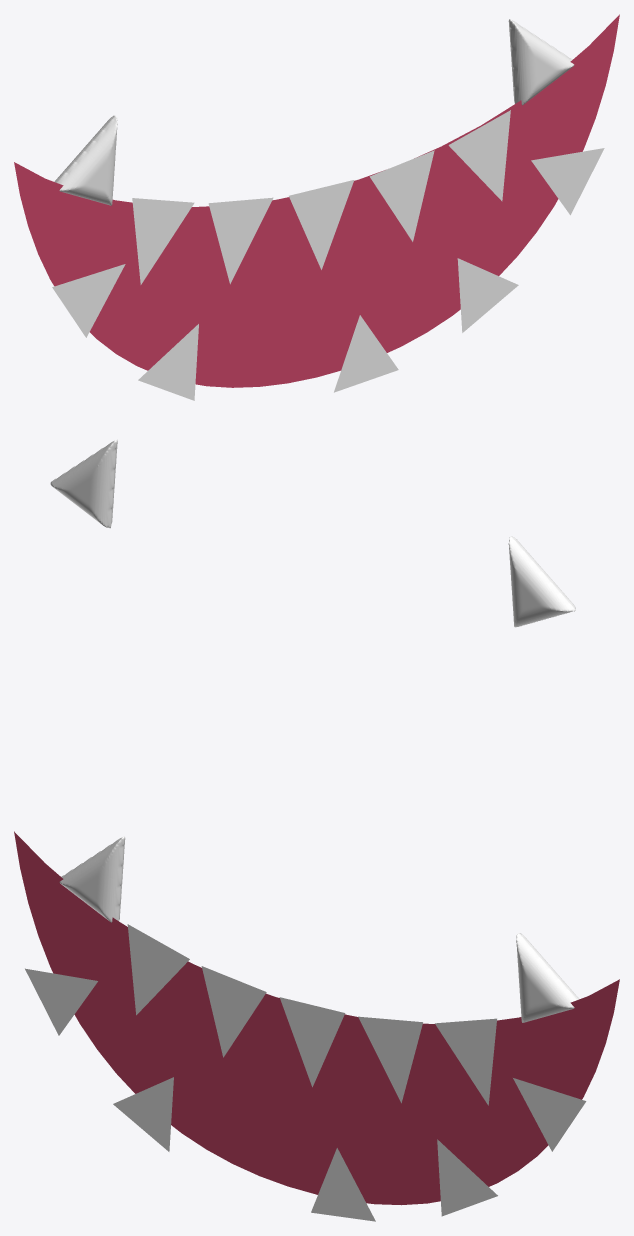
The model's file is mouth-smile.glb.
3 views of the same model, one above another, from view 1: azimuth 30°, elevation 25°; view 2: azimuth 150°, elevation 25°; view 3: azimuth 330°, elevation 25° (orthographic).
Visible parts, largest first — view 1: mouth_0_flat, mouth_1_solid, mouth_7_solid, mouth_3_flat, mouth_4_flat, mouth_2_flat, mouth_5_flat, mouth_6_flat, mouth_12_flat, mouth_8_flat, mouth_10_flat, mouth_9_flat (+1 smaller); view 2: mouth_1_solid, mouth_7_solid; view 3: mouth_0_flat, mouth_7_solid, mouth_1_solid, mouth_4_flat, mouth_3_flat, mouth_6_flat, mouth_2_flat, mouth_5_flat, mouth_8_flat, mouth_12_flat, mouth_10_flat, mouth_9_flat (+1 smaller).
Boxes of the visible parts, x1=… form: mouth_0_flat: x1=14, y1=14, x2=619, y2=387; mouth_1_solid: x1=54, y1=115, x2=117, y2=205; mouth_7_solid: x1=508, y1=19, x2=574, y2=105; mouth_3_flat: x1=208, y1=197, x2=273, y2=284; mouth_4_flat: x1=289, y1=180, x2=354, y2=269; mouth_2_flat: x1=132, y1=198, x2=194, y2=284; mouth_5_flat: x1=369, y1=150, x2=434, y2=241; mouth_6_flat: x1=448, y1=110, x2=510, y2=201; mouth_12_flat: x1=52, y1=264, x2=125, y2=337; mouth_8_flat: x1=531, y1=148, x2=604, y2=215; mouth_10_flat: x1=334, y1=315, x2=398, y2=392; mouth_9_flat: x1=457, y1=258, x2=518, y2=332; mouth_1_solid: x1=508, y1=536, x2=575, y2=627; mouth_7_solid: x1=50, y1=440, x2=117, y2=528; mouth_0_flat: x1=14, y1=831, x2=619, y2=1205; mouth_7_solid: x1=516, y1=933, x2=579, y2=1022; mouth_1_solid: x1=59, y1=836, x2=125, y2=922; mouth_4_flat: x1=279, y1=997, x2=345, y2=1087; mouth_3_flat: x1=201, y1=966, x2=266, y2=1057; mouth_6_flat: x1=435, y1=1018, x2=496, y2=1105; mouth_2_flat: x1=127, y1=924, x2=189, y2=1015; mouth_5_flat: x1=358, y1=1016, x2=422, y2=1103; mouth_8_flat: x1=513, y1=1078, x2=586, y2=1151; mouth_12_flat: x1=25, y1=968, x2=97, y2=1035; mouth_10_flat: x1=311, y1=1148, x2=375, y2=1221; mouth_9_flat: x1=437, y1=1139, x2=497, y2=1216.
Size of the model in its own units: 0.368 by 0.183 by 0.0262.
